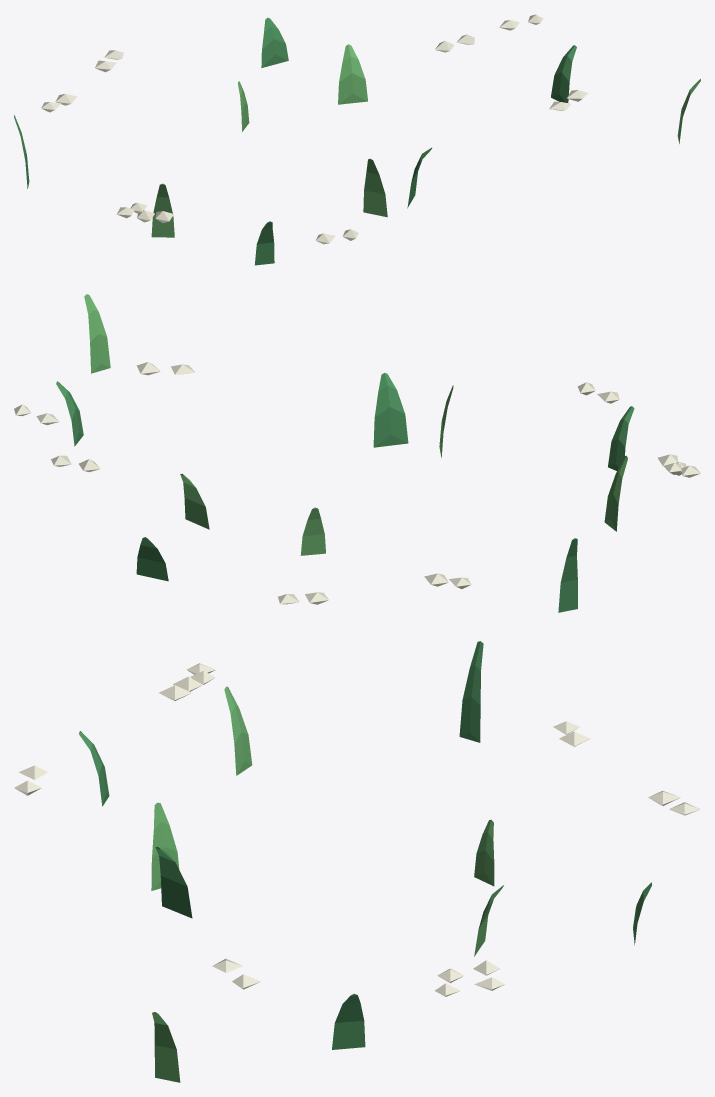
Rendered from flowers_creeping_a.glb.
3 views of the same model, one above another, from view 1: azimuth 30°, elevation 25°; view 2: azimuth 150°, elevation 25°; view 3: azimuth 270°, elevation 25° (orthographic). The views are drawn at different scales.
Parts seen in each view (by area): view 1: FlowersCreepingA; view 2: FlowersCreepingA; view 3: FlowersCreepingA.
Boxes of the visible parts, x1,y1,x2,y2 form: FlowersCreepingA: (14,14,700,265); FlowersCreepingA: (14,294,700,612); FlowersCreepingA: (14,641,700,1082).
Size of the model in its own units: 0.952 by 0.1132 by 0.7635.
